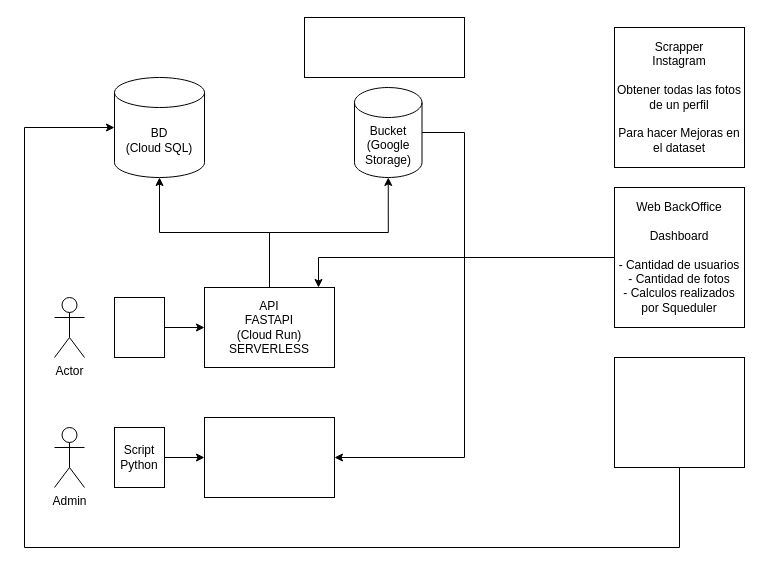
Some shapes in this 762 by 573 pixel diagram are drawn without their labels. The shapes that lost their labels are listed below. From the top down, each one's centre as x and y in pixels, then its label:
At pixel 384 47: "/user/photosUploaded /dataToTrain/".
At pixel 139 327: "APP".
At pixel 679 412: "Squeduler Calcular los datos a mostrar en la web".
At pixel 269 457: "Entrenamiento Prepro Apache Beam".
